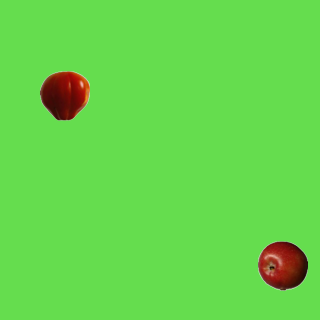Apple Braeburn: (257, 240, 307, 290)
Tomato 1: (39, 70, 89, 120)
